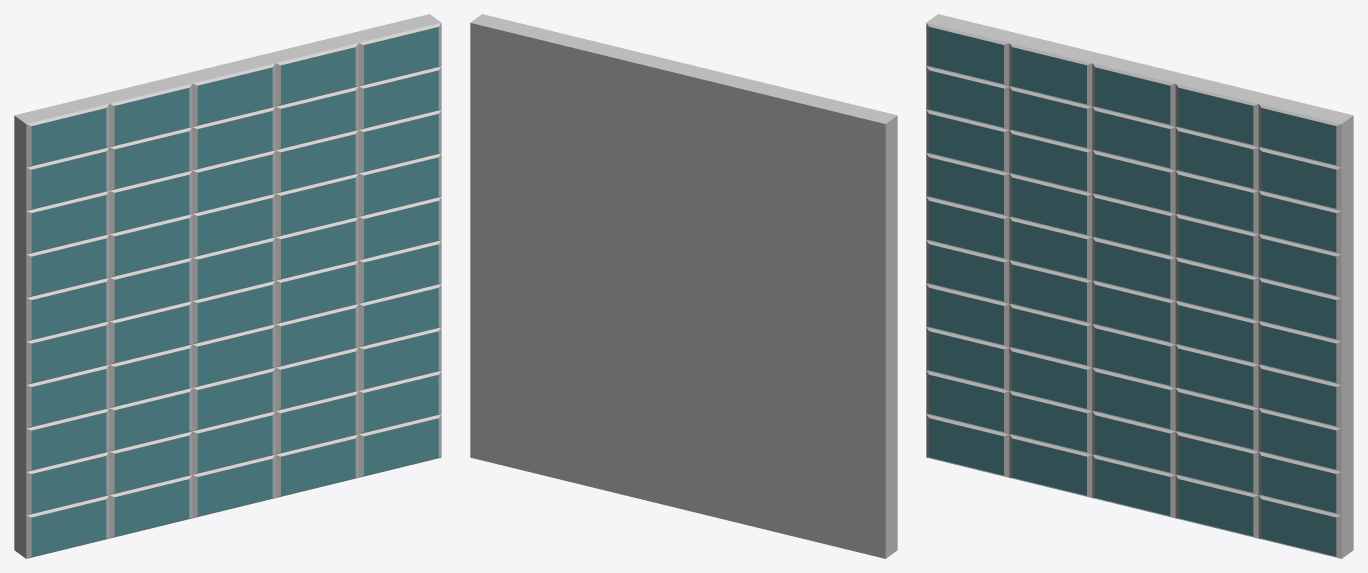
Rendered from Wall 2.fbx.
The picture shows the model from 3 angles, left to right: view 1: azimuth 30°, elevation 25°; view 2: azimuth 150°, elevation 25°; view 3: azimuth 330°, elevation 25°; orthographic projection.
Visible parts, largest first — view 1: Wall 2; view 2: Wall 2; view 3: Wall 2.
Boxes of the visible parts, x1,y1,x2,y2 form: Wall 2: [14, 14, 441, 558]; Wall 2: [470, 14, 897, 558]; Wall 2: [926, 14, 1353, 558].
Size of the model in its own units: 2000 by 2000 by 110.
